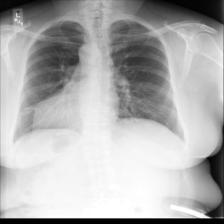normal: (9, 13, 186, 147)
